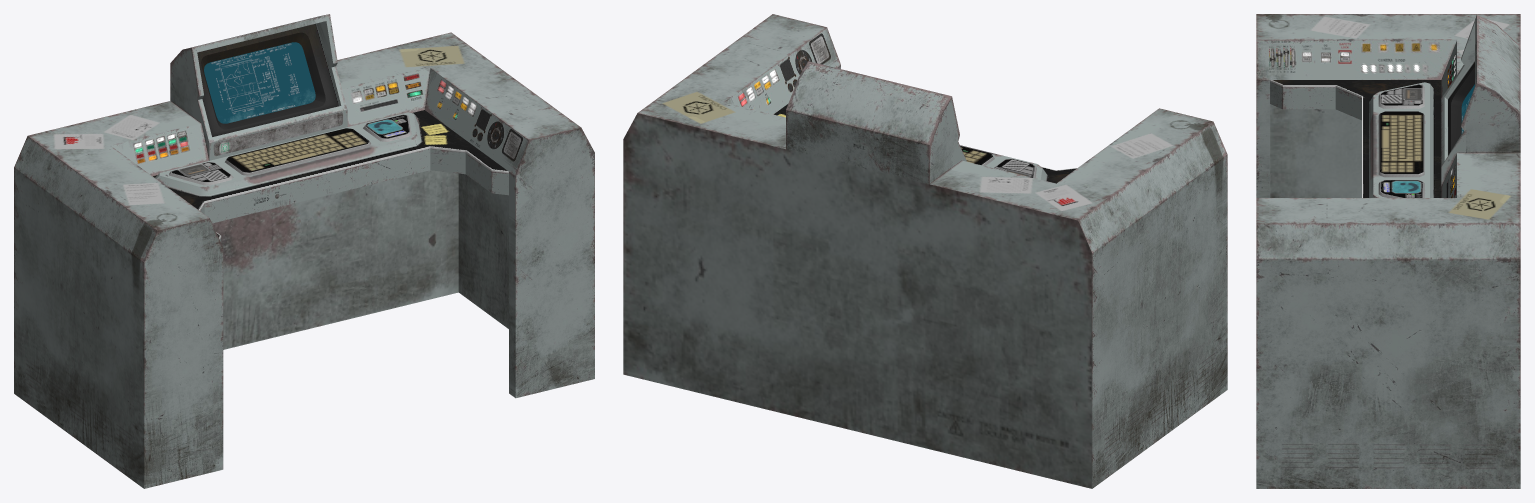
Rendered from computer_sgd_116_-_logan_thomas.glb.
3 renders of one model, left to right at view 1: azimuth 30°, elevation 25°; view 2: azimuth 150°, elevation 25°; view 3: azimuth 270°, elevation 25°, orthographic. The views are drawn at different scales.
Parts seen in each view (by area): view 1: Computer; view 2: Computer; view 3: Computer.
Boxes of the visible parts, x1,y1,x2,y2 form: Computer: (14, 14, 594, 488); Computer: (623, 14, 1227, 488); Computer: (1256, 14, 1520, 488).
Size of the model in its own units: 2.04 by 1.4 by 1.02.
Materials: 2 (2 with a texture image).
